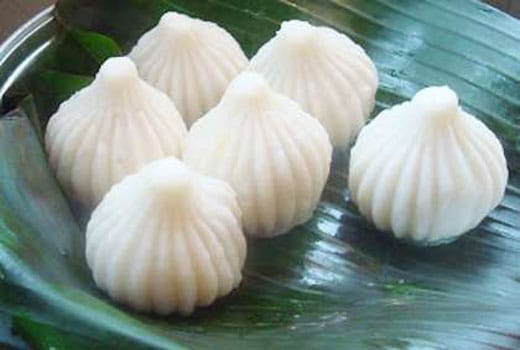modak: (351, 66, 510, 243), (93, 157, 249, 295), (196, 81, 332, 226), (42, 60, 194, 187), (247, 14, 379, 134), (136, 19, 251, 100)
